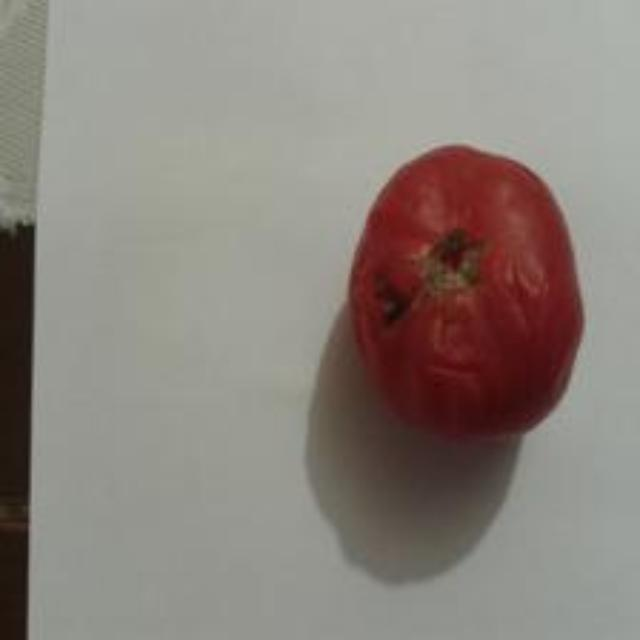defect: (346, 138, 586, 443)
